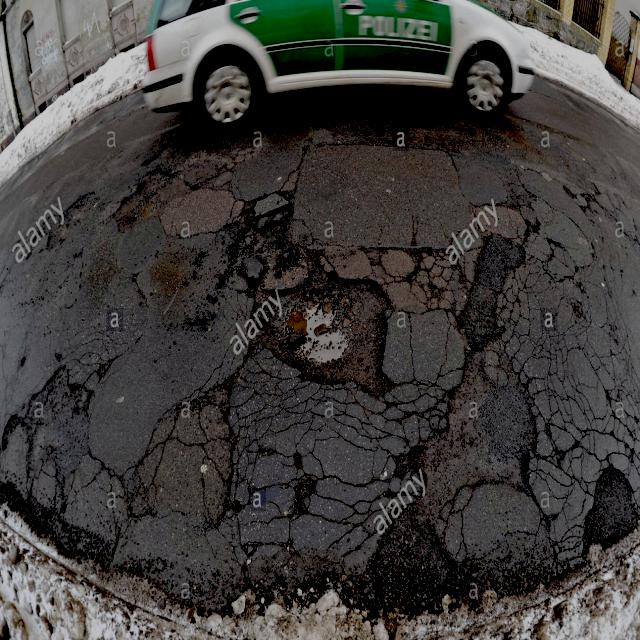Pothole: (215, 194, 404, 412)
